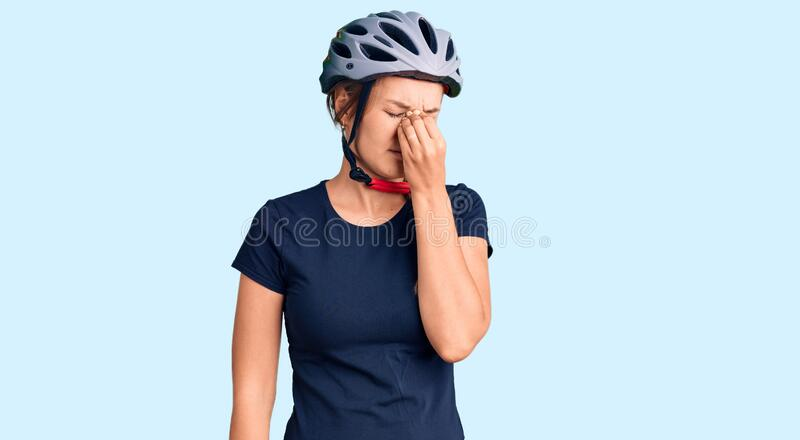helmet: (320, 10, 463, 180)
